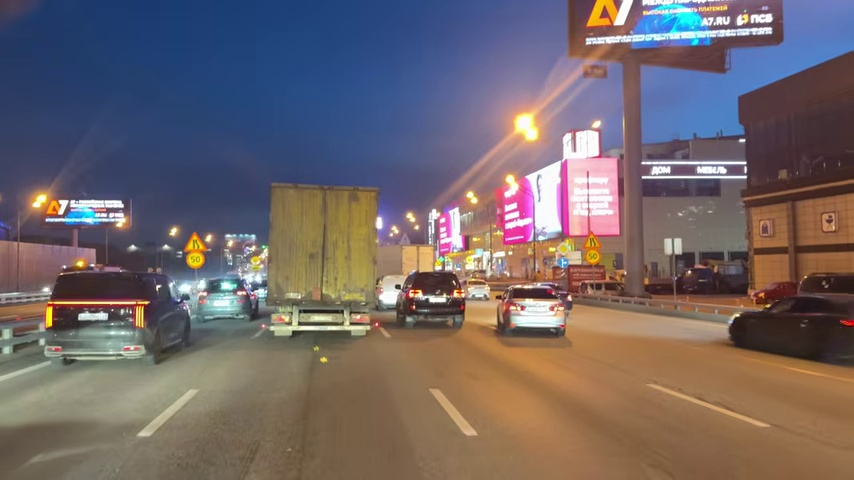acesa: (511, 111, 543, 143), (28, 191, 55, 214), (463, 190, 480, 208), (166, 223, 181, 240), (405, 210, 419, 227)
